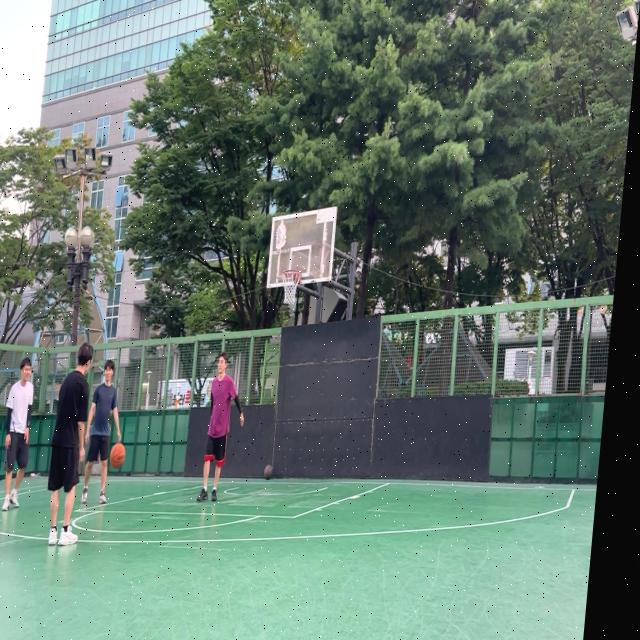basketball: (109, 443, 127, 469), (263, 464, 274, 480)
hoop: (279, 269, 303, 305)
